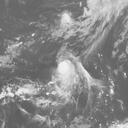cyclone: (48, 58, 94, 105)
